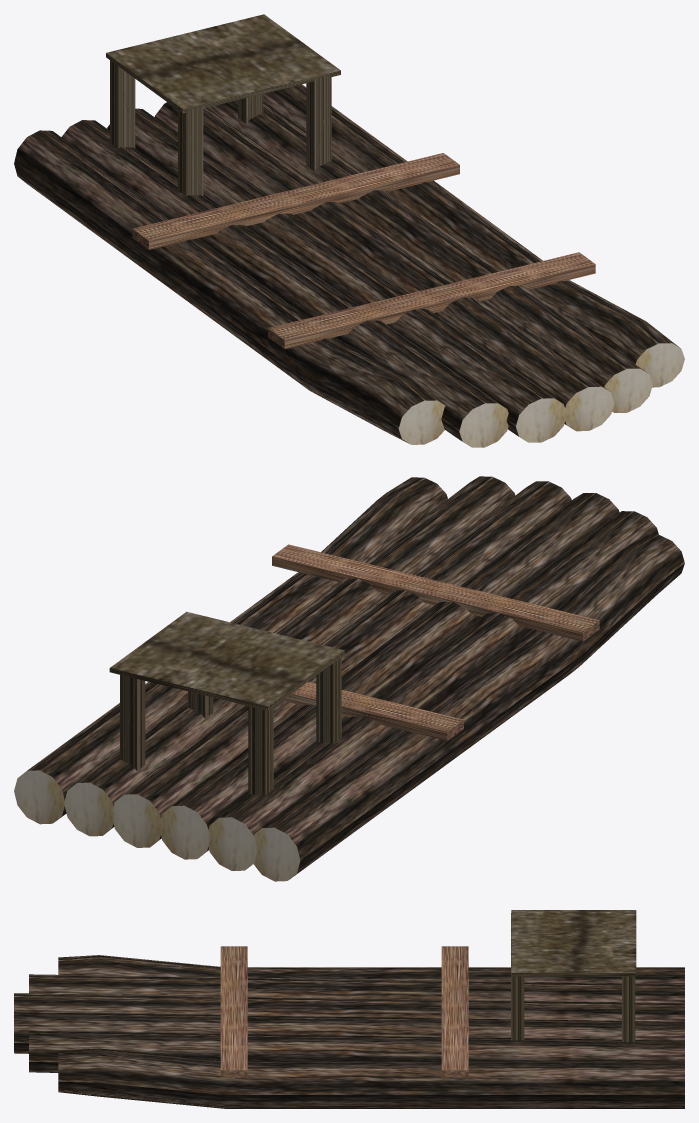
Rendered from iberena.dae.
3 views of the same model, one above another, from view 1: azimuth 30°, elevation 25°; view 2: azimuth 150°, elevation 25°; view 3: azimuth 270°, elevation 25° (orthographic). The views are drawn at different scales.
Parts seen in each view (by area): view 1: iberema; view 2: iberema; view 3: iberema.
Part boxes in pixels (x1,y1,x2,y2): iberema: (14,14,684,447); iberema: (14,476,684,881); iberema: (14,910,684,1108).
Bounding box in the file's own units: 6.6 × 15.12 × 2.92.
